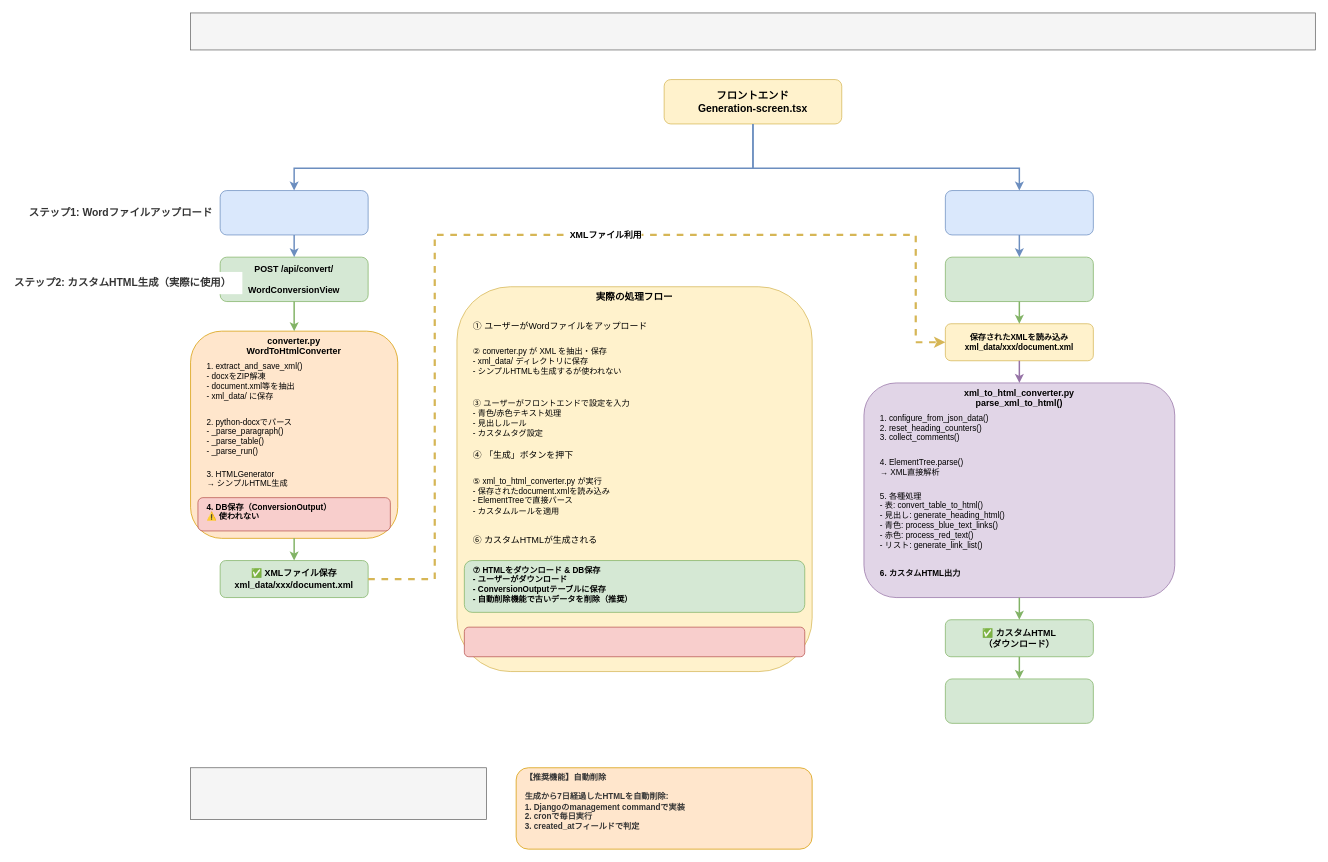
Image size: 1328x862. Some labels were removed from this diagram. Each missing label, with the centre of its shape:
handleGenerateClick() 「生成」ボタン押下: [1019,212]
handleWordUpload() ファイル選択ダイアログ: [293,212]
POST /api/generate-html/ GenerateHtmlView: [1019,279]
Word → HTML 変換処理 実際のフロー: [752,31]
⚠️ 重要: converter.pyで生成したHTMLは使われない: [634,641]
✅ DB保存（推奨） ConversionOutput + 自動削除機能: [1019,700]
【凡例】 ✅ = 使用される | ⚠️ = 使用されない 実線矢印 = 処理フロー | 破線矢印 = ファイル利用: [338,793]
